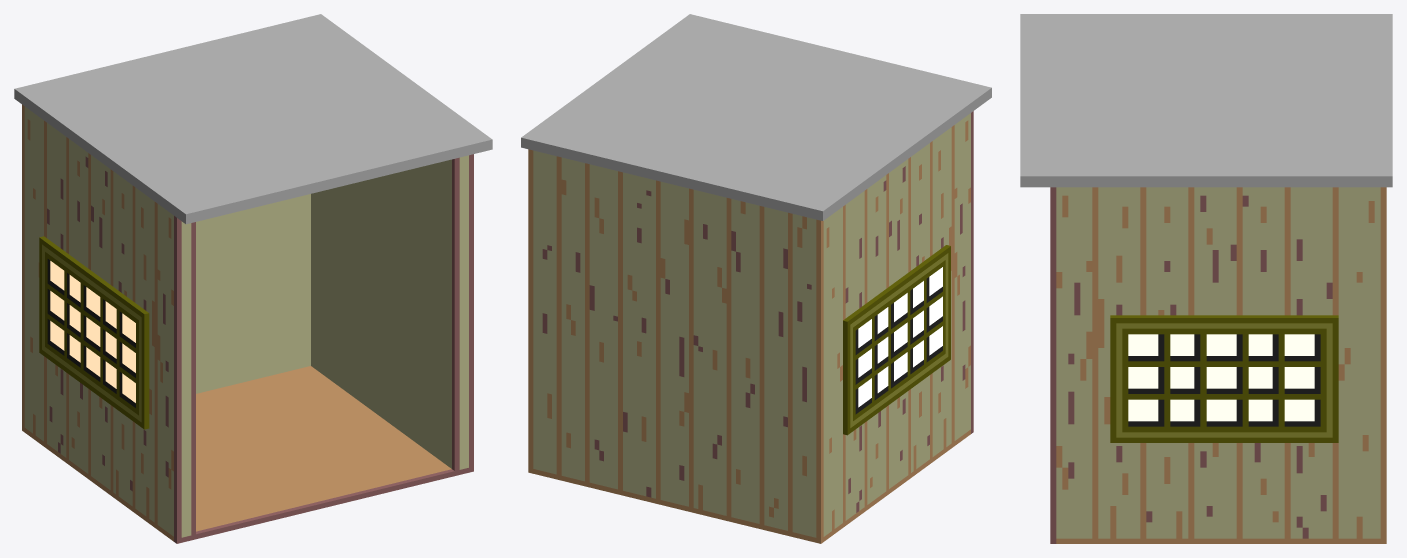
File: typeNine.glb
3 views of the same model, side by side, from view 1: azimuth 30°, elevation 25°; view 2: azimuth 150°, elevation 25°; view 3: azimuth 270°, elevation 25° (orthographic). The views are drawn at different scales.
Parts seen in each view (by area): view 1: ObjObject; view 2: ObjObject; view 3: ObjObject.
Part boxes in pixels (left/top/right/bottom): ObjObject: left=14, top=14, right=492, bottom=543; ObjObject: left=521, top=14, right=991, bottom=543; ObjObject: left=1020, top=14, right=1392, bottom=543.
Bounding box in the file's own units: 6.4 × 6.8 × 6.2.
3 materials, 1 textured.
